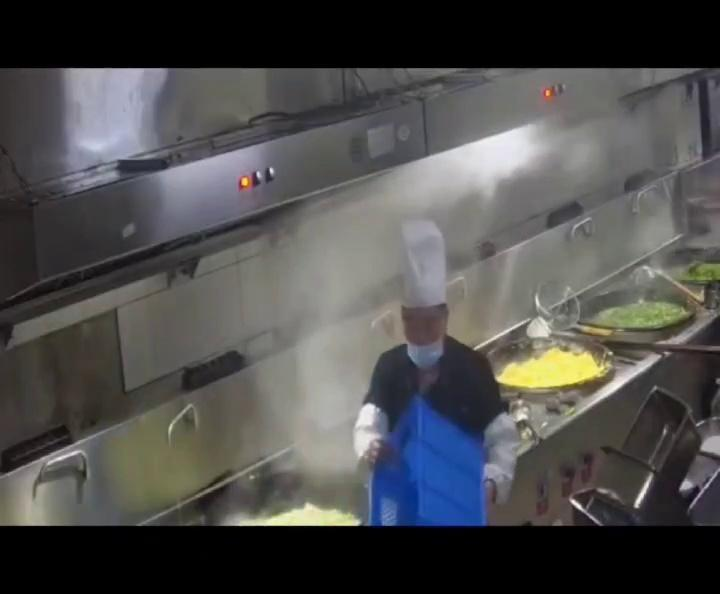mask: (408, 323, 441, 369)
